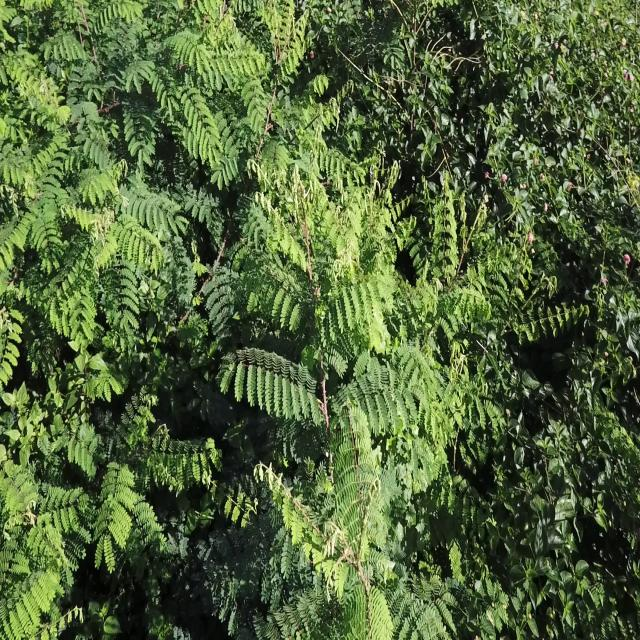Mysore-Thorn-Weed: (223, 174, 462, 637), (0, 0, 266, 196), (0, 157, 178, 372), (48, 392, 221, 575), (431, 222, 579, 370), (233, 4, 332, 210), (0, 440, 84, 632)
